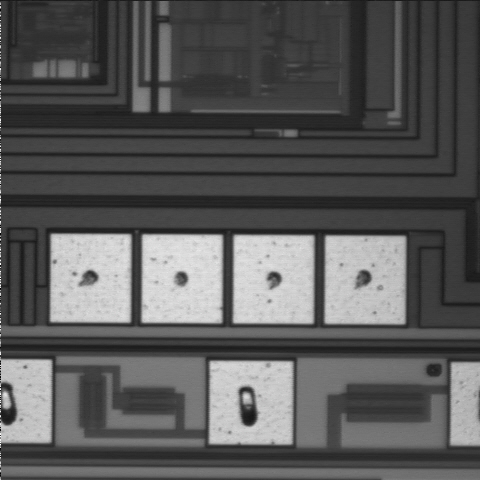pad: (51, 234, 131, 322), (142, 235, 222, 323), (325, 236, 405, 324), (234, 235, 313, 323), (210, 361, 292, 444)
